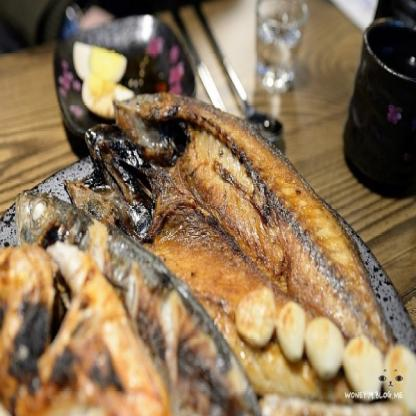Peixe: (0, 79, 390, 416)
